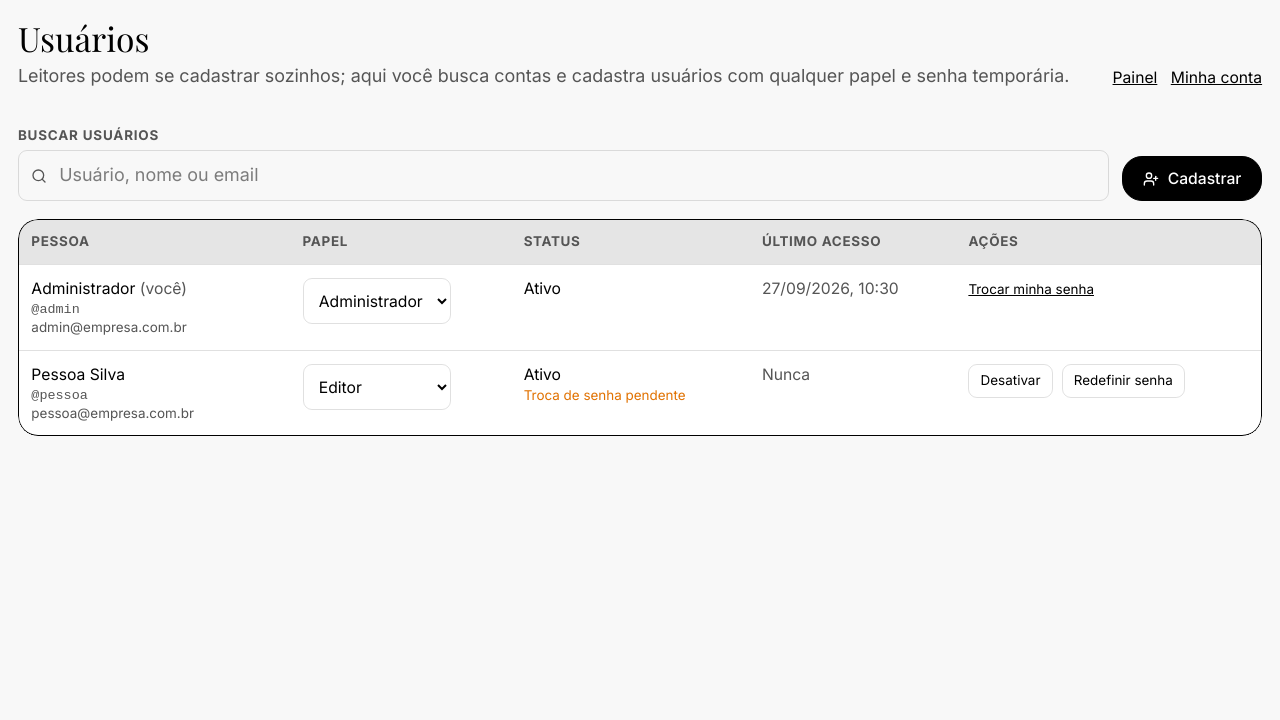
Scenario: UsersManager › não há formulário fixo: busca e botão "Cadastrar" no lugar
The width and height of the screenshot is (1280, 720).
Check: the search field labelled "Buscar usuários" is shown, box [18,150,1109,201]
Click the button "Cadastrar".
click(1192, 179)  # box [1122,156,1262,201]
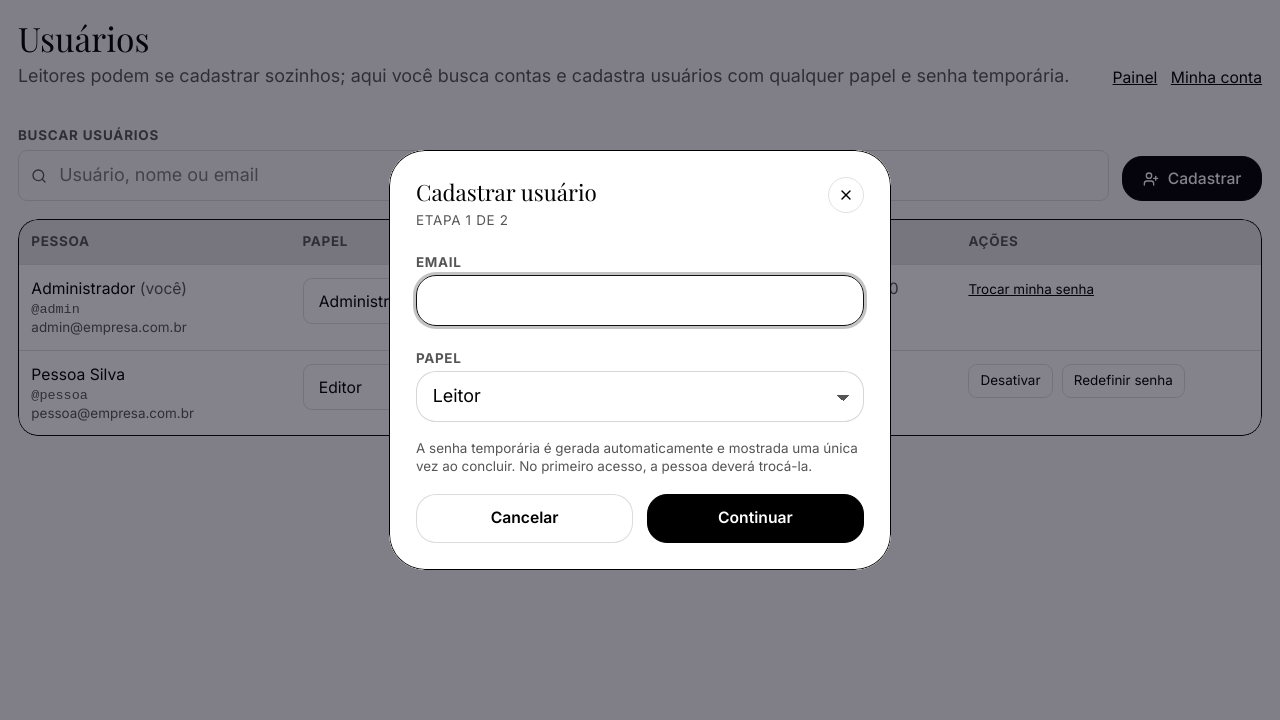
Check: the dialog "Cadastrar usuário" is shown, box [389,150,891,570]
